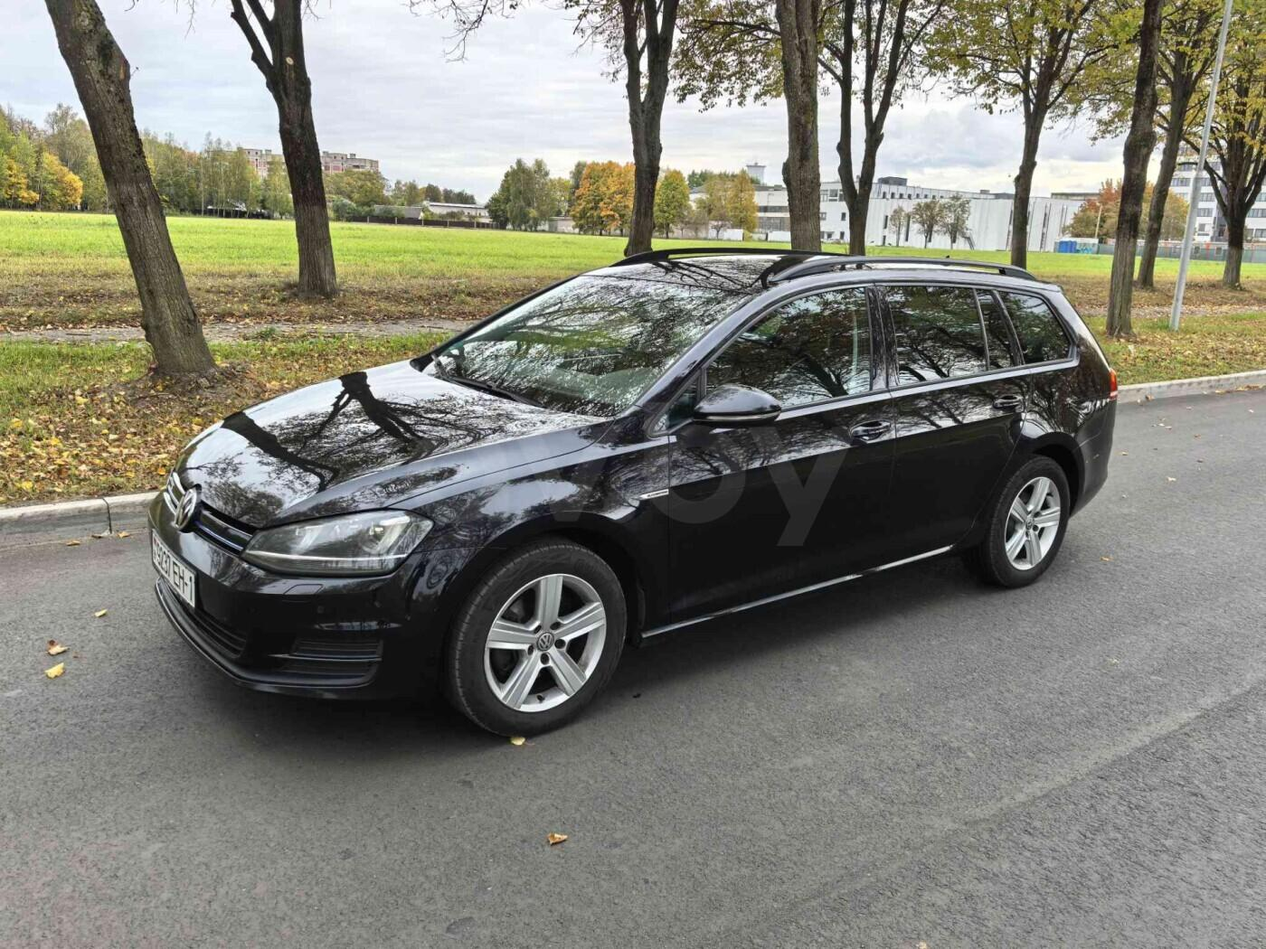Golf_2012-2017: (152, 252, 1119, 736)
